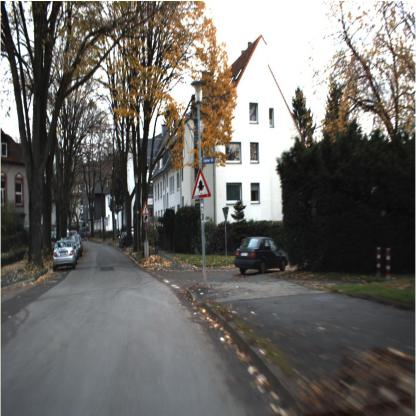danger: (187, 168, 212, 204), (138, 199, 152, 219)
